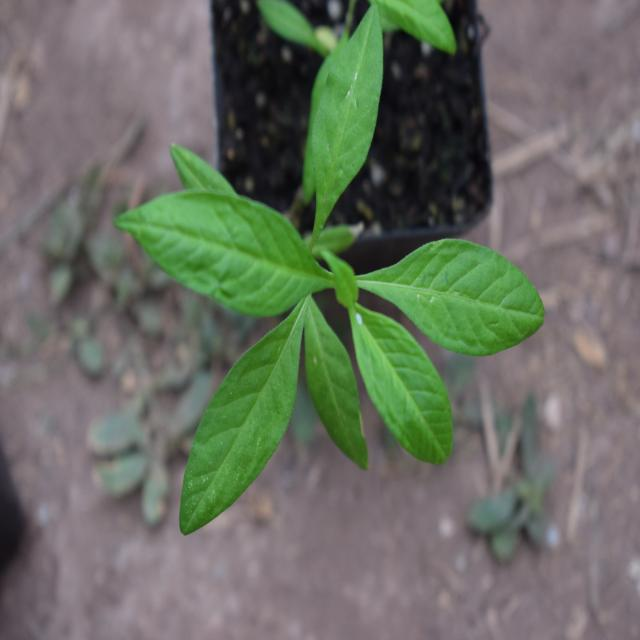white_smart_weed: (111, 52, 544, 507)
